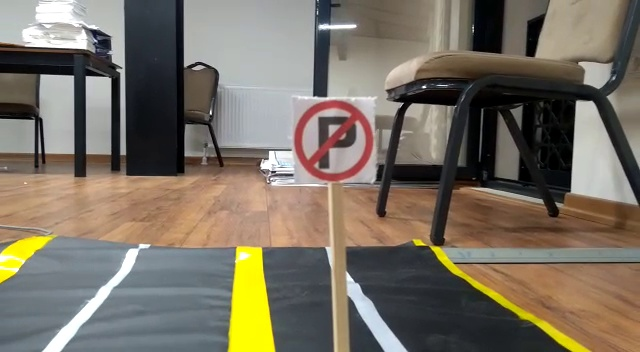park_yapilmaz: (294, 101, 376, 180)
